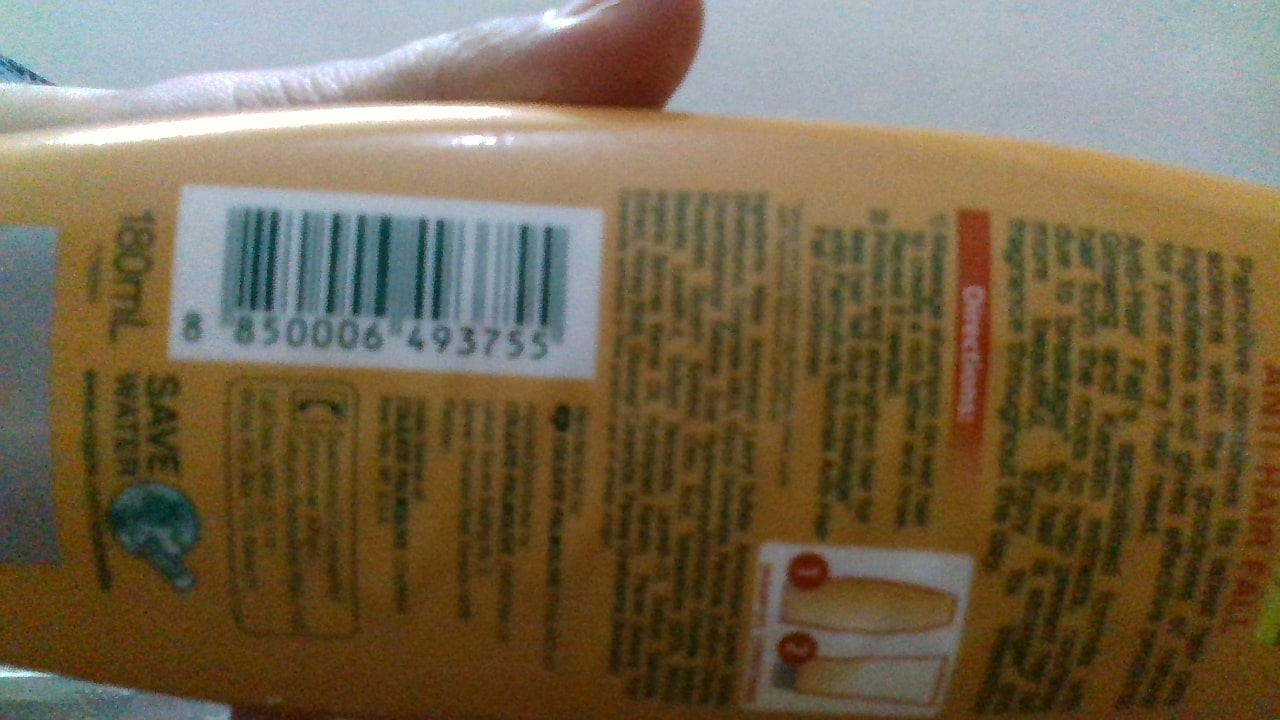Barcode: (218, 202, 567, 357)
